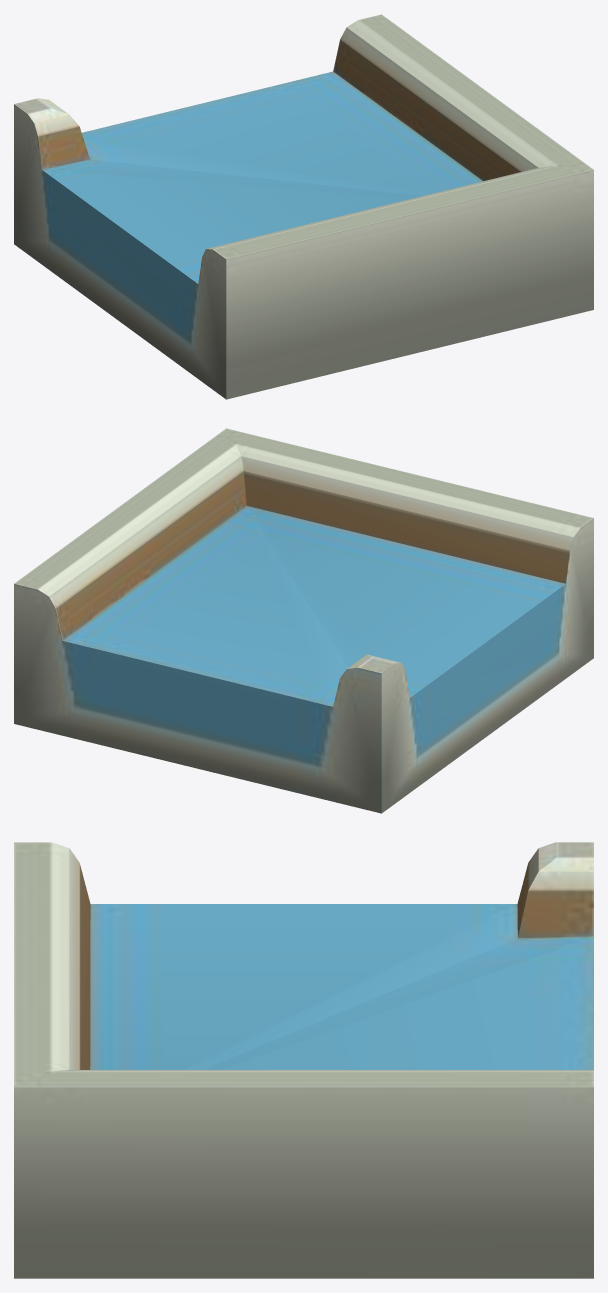
The model's file is creek_corner.glb.
3 renders of one model, top to bottom at view 1: azimuth 30°, elevation 25°; view 2: azimuth 150°, elevation 25°; view 3: azimuth 270°, elevation 25°, orthographic. The views are drawn at different scales.
Visible parts, largest first — view 1: creek_corner; view 2: creek_corner; view 3: creek_corner.
Boxes of the visible parts, left/top/right/bottom form: creek_corner: left=14, top=14, right=593, bottom=399; creek_corner: left=14, top=428, right=593, bottom=813; creek_corner: left=14, top=842, right=593, bottom=1278.
Size of the model in its own units: 2 by 0.7285 by 2.
Materials: 1 (1 with a texture image).
